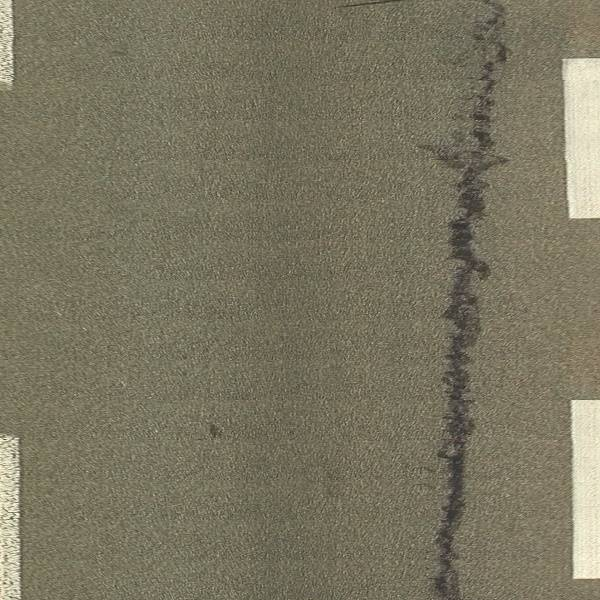road_damage: (414, 32, 511, 600)
